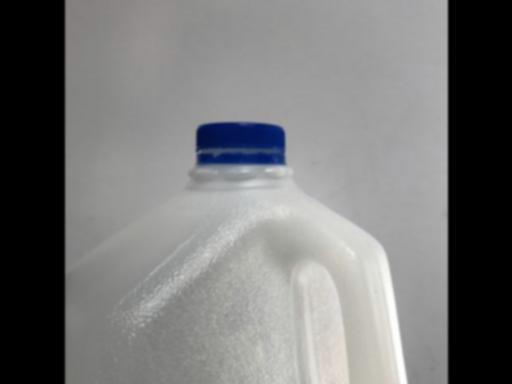HDPE: (65, 121, 424, 384)
plastic: (65, 121, 424, 384)
